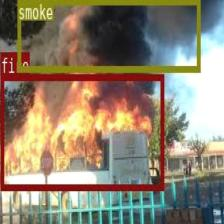fire: (0, 72, 163, 188)
smoke: (17, 0, 199, 70)
